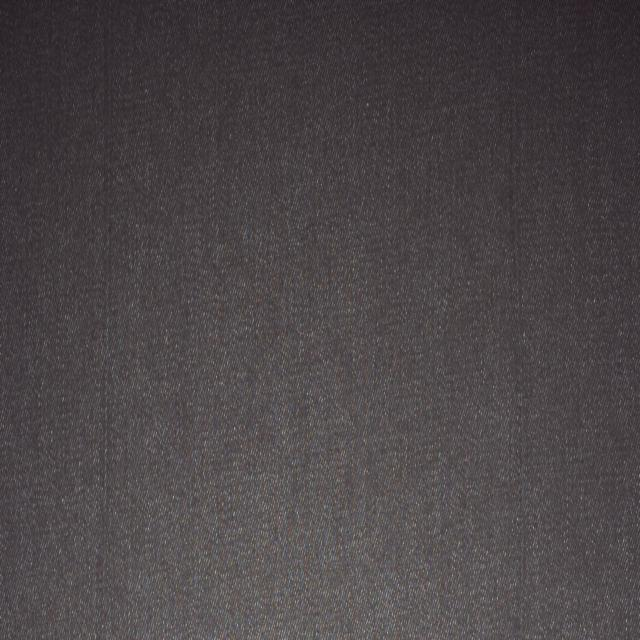pulled_or_thick_thread: (97, 0, 116, 604)
